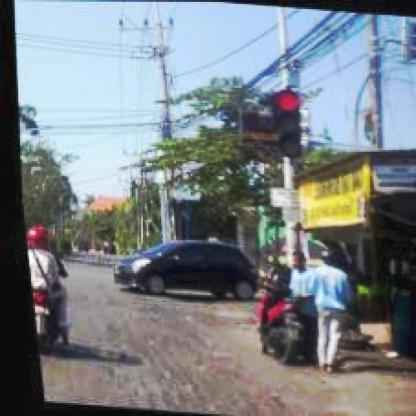Traffic Light -Red-: (268, 90, 304, 158)
